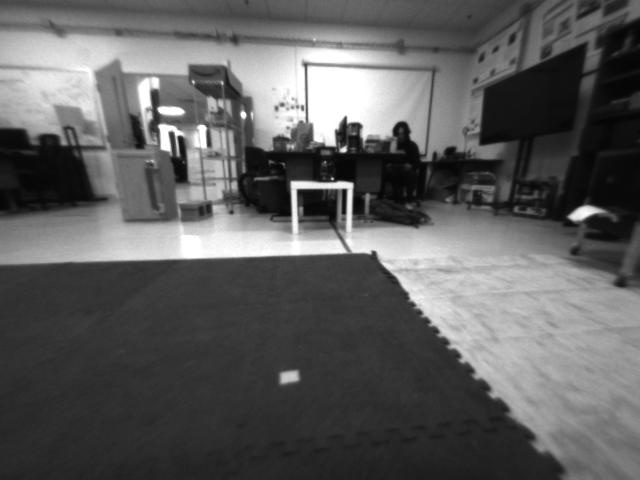coffee_pot: (312, 144, 339, 183)
